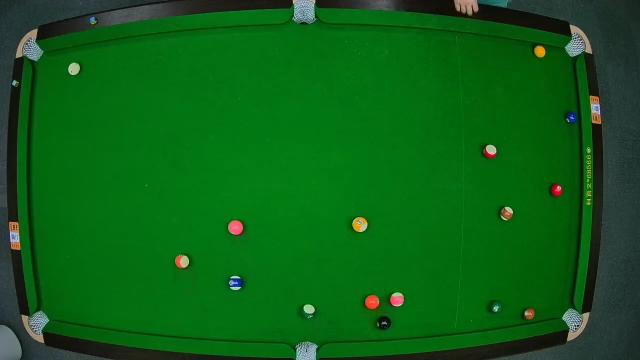bag1: (24, 40, 40, 62)
bag2: (292, 2, 316, 22)
bag3: (566, 34, 584, 56)
bag4: (27, 310, 49, 336)
bag5: (295, 342, 319, 360)
bag6: (562, 308, 584, 332)
ball0: (70, 81, 86, 97)
ball1: (534, 44, 546, 58)
ball10: (227, 276, 245, 292)
ball11: (482, 144, 500, 160)
ball12: (389, 292, 406, 307)
ball13: (173, 252, 190, 270)
ball14: (300, 303, 318, 319)
ball15: (500, 204, 514, 222)
ball2: (565, 110, 579, 126)
ball3: (550, 182, 564, 198)
ball4: (228, 220, 245, 236)
ball5: (364, 294, 382, 310)
ball6: (488, 300, 504, 314)
ball7: (522, 306, 536, 322)
ball8: (376, 315, 392, 331)
ball9: (352, 216, 368, 234)
